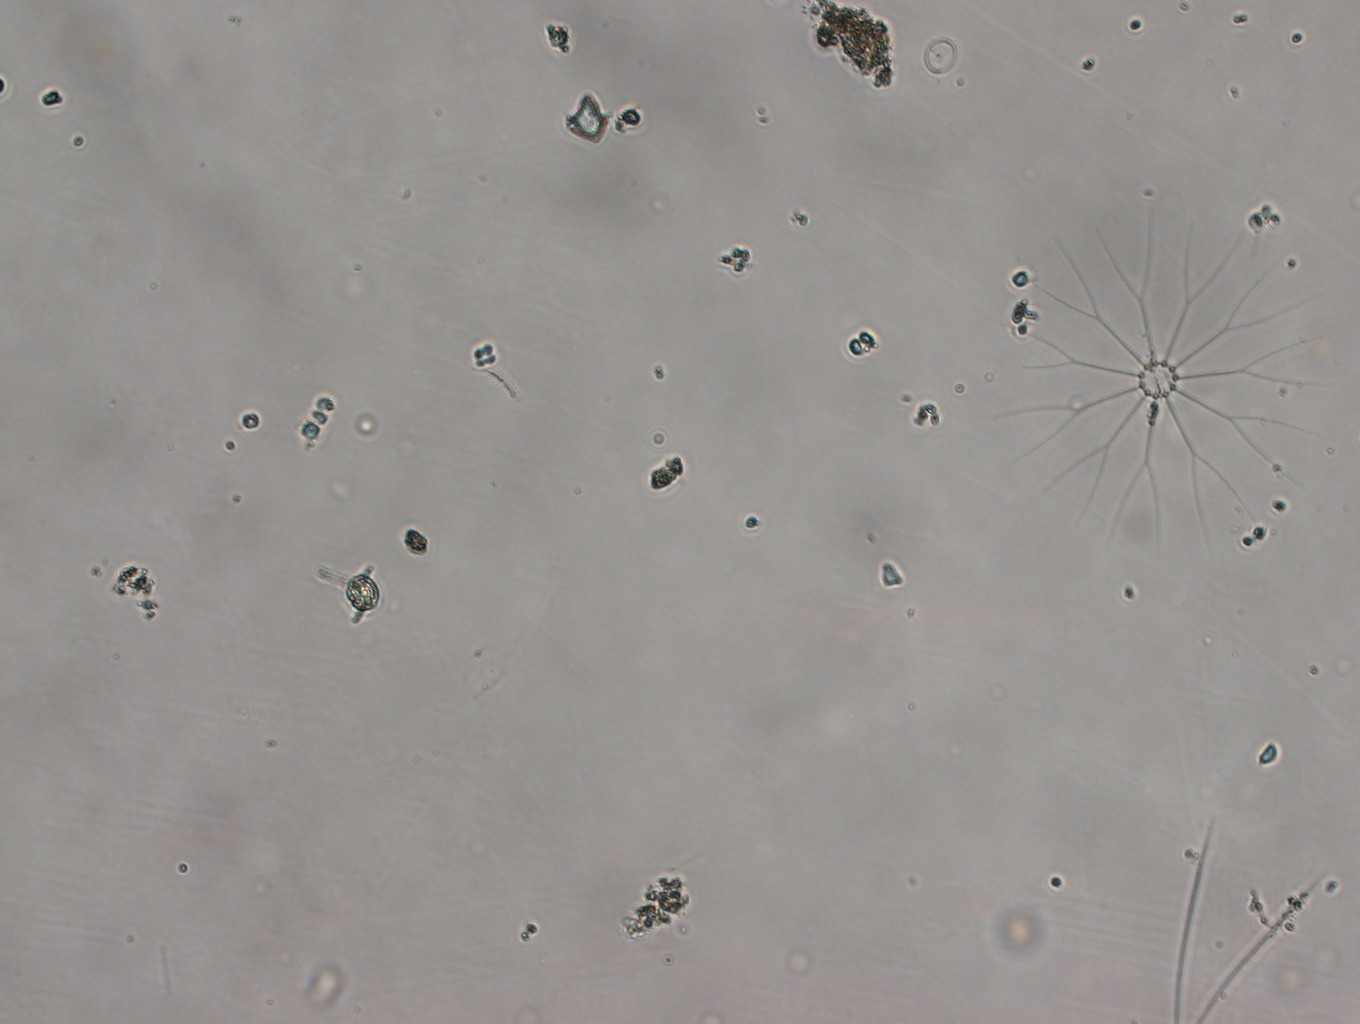bacteriastrum: (991, 212, 1328, 550)
